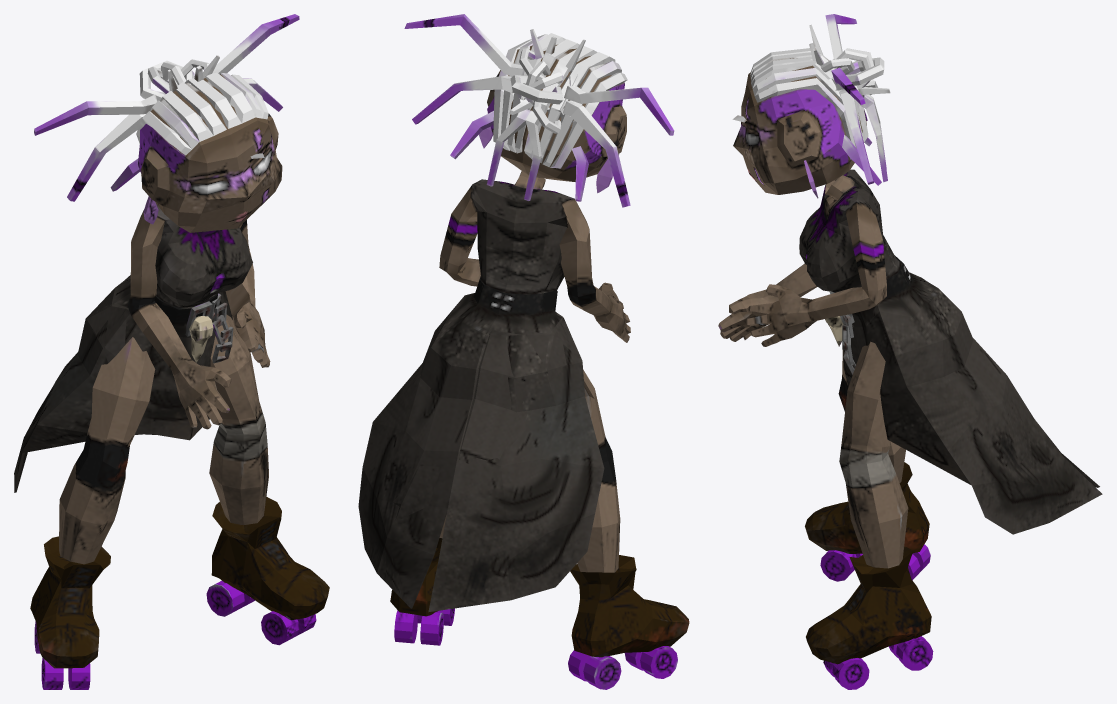
Rendered from bruja_000033.obj.
The picture shows the model from 3 angles, left to right: view 1: azimuth 30°, elevation 25°; view 2: azimuth 150°, elevation 25°; view 3: azimuth 270°, elevation 25°; orthographic projection. The views are drawn at different scales.
Visible parts, largest first — view 1: Bruja_Plane.001; view 2: Bruja_Plane.001; view 3: Bruja_Plane.001.
Part boxes in pixels (x1=…): Bruja_Plane.001: x1=14, y1=14, x2=329, y2=689; Bruja_Plane.001: x1=358, y1=14, x2=689, y2=689; Bruja_Plane.001: x1=718, y1=14, x2=1102, y2=689.
Size of the model in its own units: 7.83 by 16.3 by 9.46.
